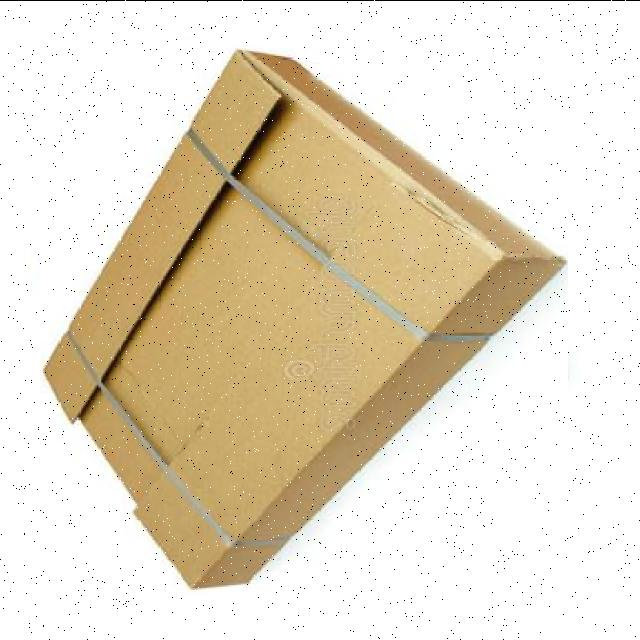defect: (40, 43, 568, 595)
